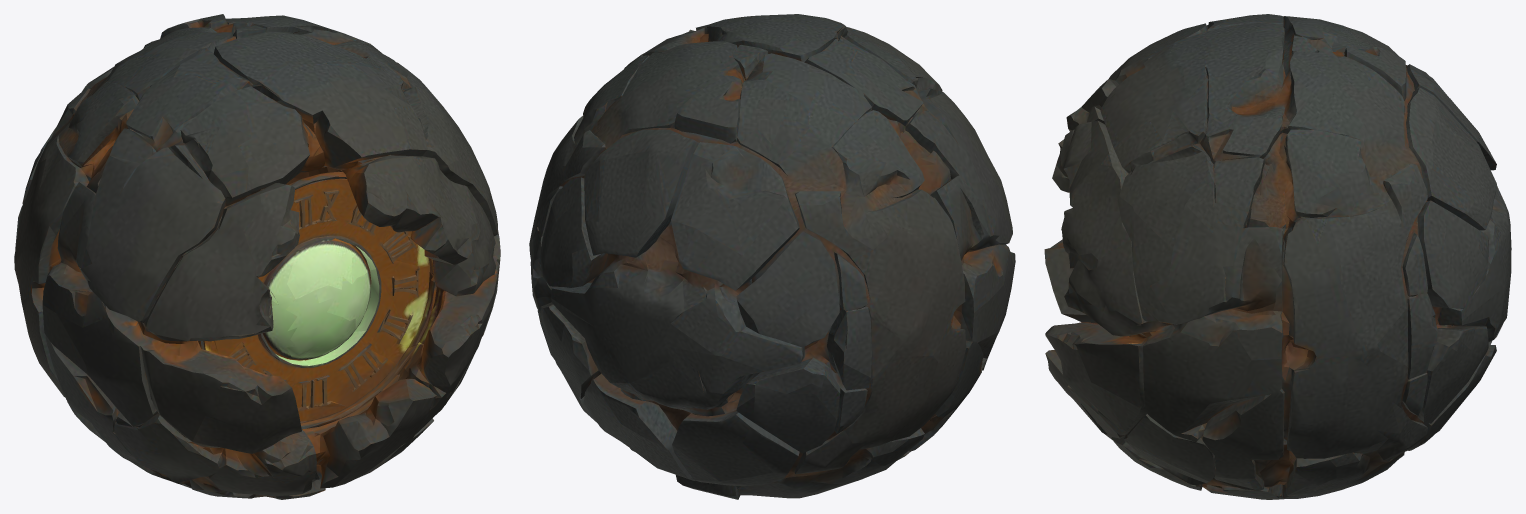
The model's file is artifact.glb.
3 renders of one model, left to right at view 1: azimuth 30°, elevation 25°; view 2: azimuth 150°, elevation 25°; view 3: azimuth 270°, elevation 25°, orthographic.
Visible parts, largest first — view 1: output_unwrapped; view 2: output_unwrapped; view 3: output_unwrapped.
Part boxes in pixels (x1,y1,x2,y2): output_unwrapped: (14,14,500,499); output_unwrapped: (529,14,1015,499); output_unwrapped: (1044,14,1511,499).
Size of the model in its own units: 1.9 by 1.89 by 1.83.
1 material, 1 textured.
